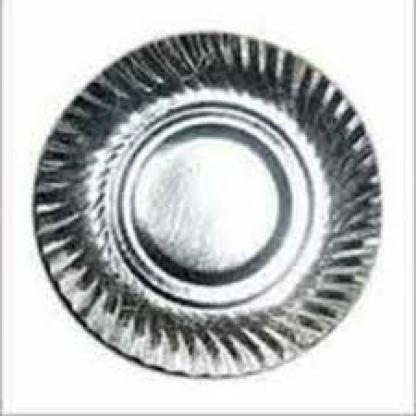METAL: (29, 30, 381, 377)
